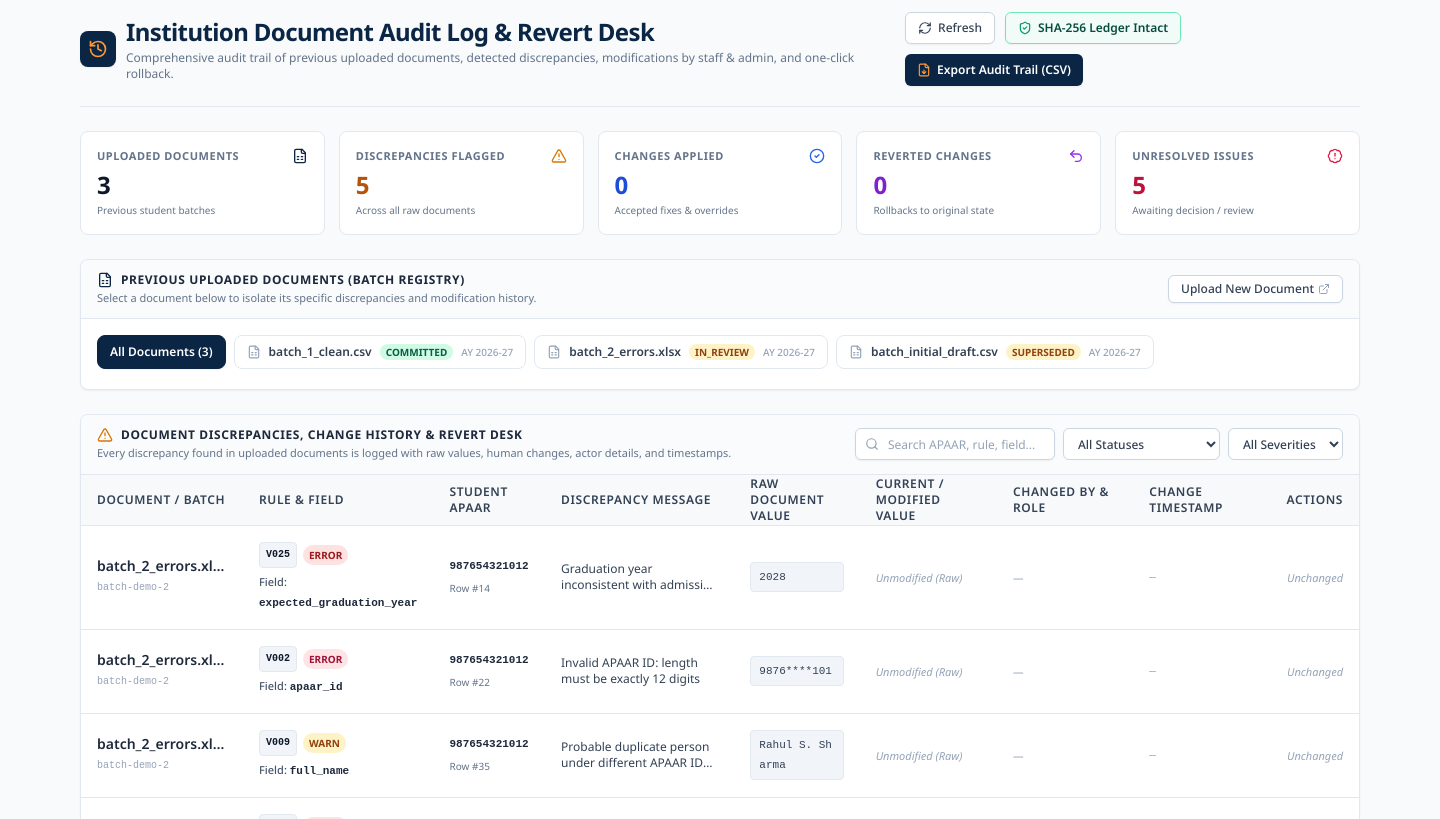
Test: Institution Document Audit Log & Revert Desk › filters discrepancies by status and search query
expect the text "V025" is shown: met, box [259,542,297,568]
# Search for V002
In the field with placeholder "Search APAAR, rule, field...": [955, 444] box [855,428,1055,460], type "V002"
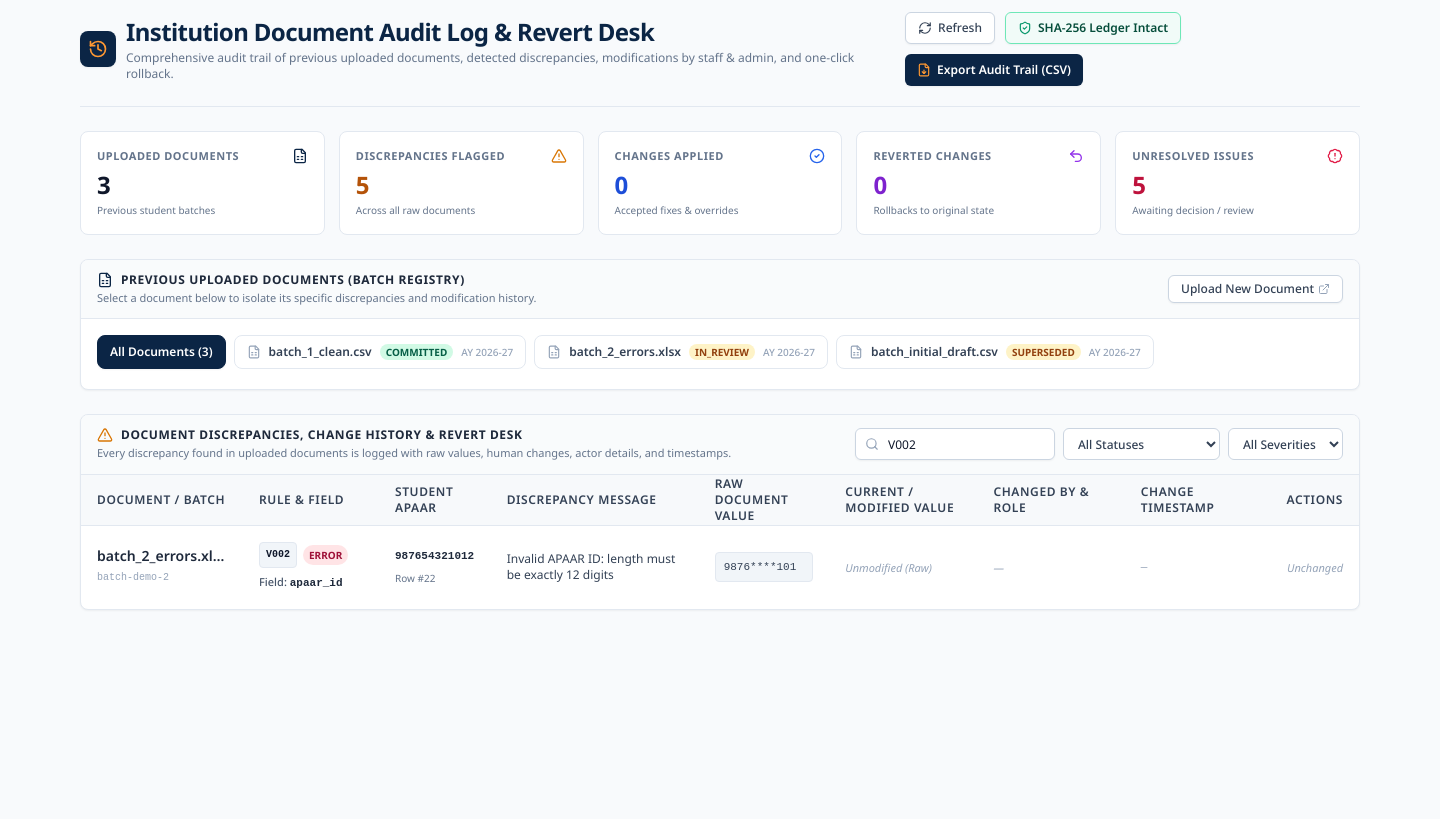
expect the text "V002" is shown: met, box [259,542,297,568]
expect the text "V025" is gone: met
